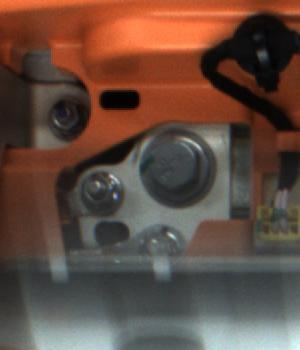nut_b: (133, 128, 226, 208)
